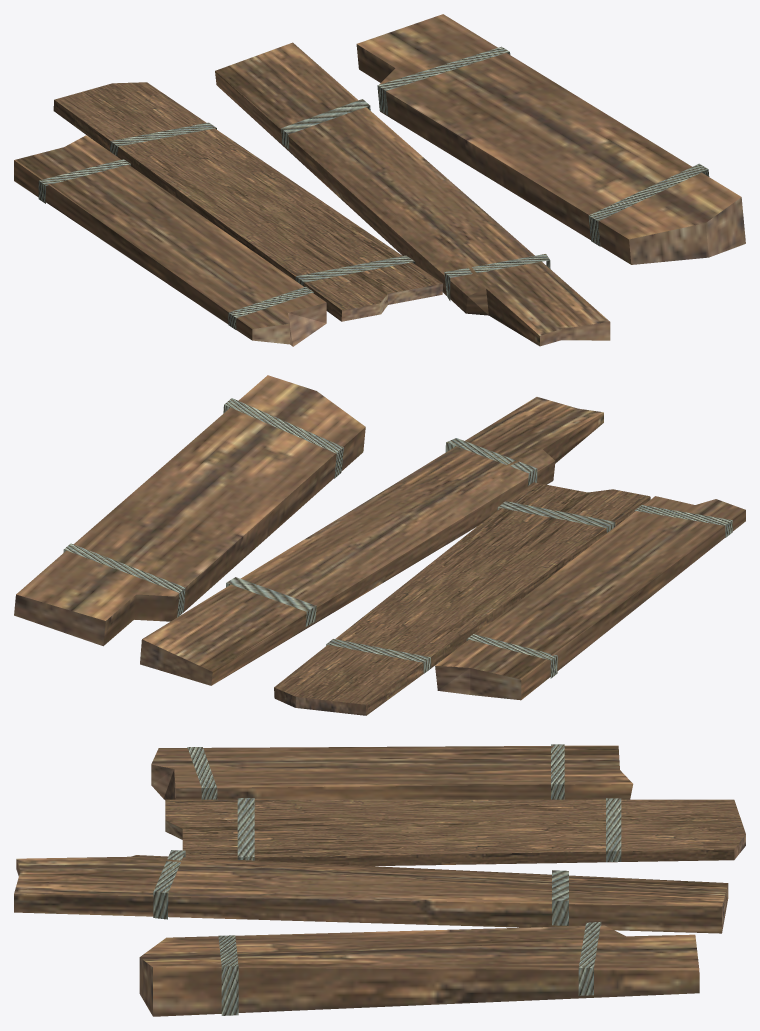
The model's file is environment_stone_shitai_001_b.FBX.
3 views of the same model, one above another, from view 1: azimuth 30°, elevation 25°; view 2: azimuth 150°, elevation 25°; view 3: azimuth 270°, elevation 25° (orthographic).
Visible parts, largest first — view 1: environment_stone_shitai_001_b; view 2: environment_stone_shitai_001_b; view 3: environment_stone_shitai_001_b.
Boxes of the visible parts, x1,y1,x2,y2 form: environment_stone_shitai_001_b: (14,14,745,346); environment_stone_shitai_001_b: (14,375,745,715); environment_stone_shitai_001_b: (14,744,745,1016).
Bounding box in the file's own units: 229 × 22.6 × 294.
